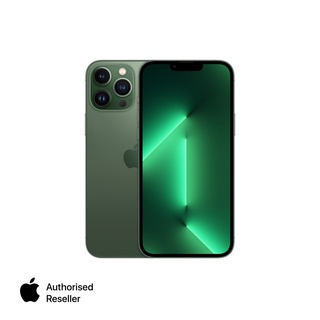phones: (138, 59, 238, 258), (81, 53, 141, 256)
